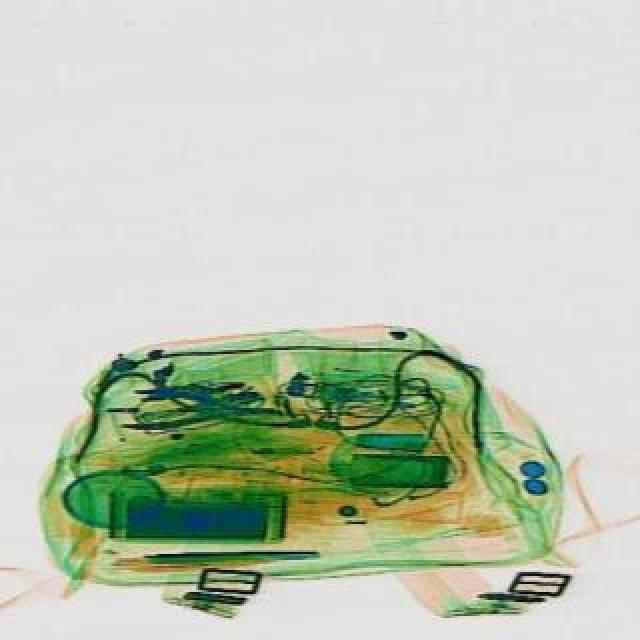wrench: (116, 392, 274, 428)
